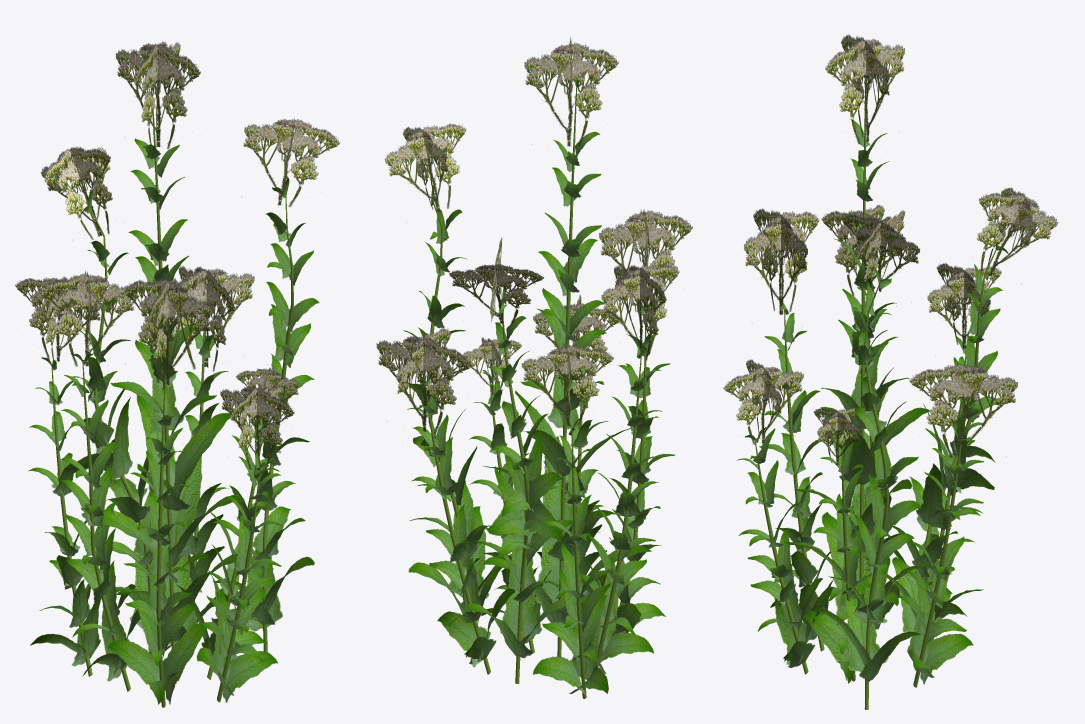
The model's file is commonboneset.glb.
The picture shows the model from 3 angles, left to right: view 1: azimuth 30°, elevation 25°; view 2: azimuth 150°, elevation 25°; view 3: azimuth 270°, elevation 25°; orthographic projection. The views are drawn at different scales.
Parts seen in each view (by area): view 1: Object_11; view 2: Object_11; view 3: Object_11.
Boxes of the visible parts, left/top/right/bottom form: Object_11: left=15, top=41, right=340, bottom=707; Object_11: left=376, top=37, right=692, bottom=698; Object_11: left=723, top=34, right=1058, bottom=709.
Bounding box in the file's own units: 4.62 × 9.89 × 4.95.
Materials: 20 (19 with a texture image).
